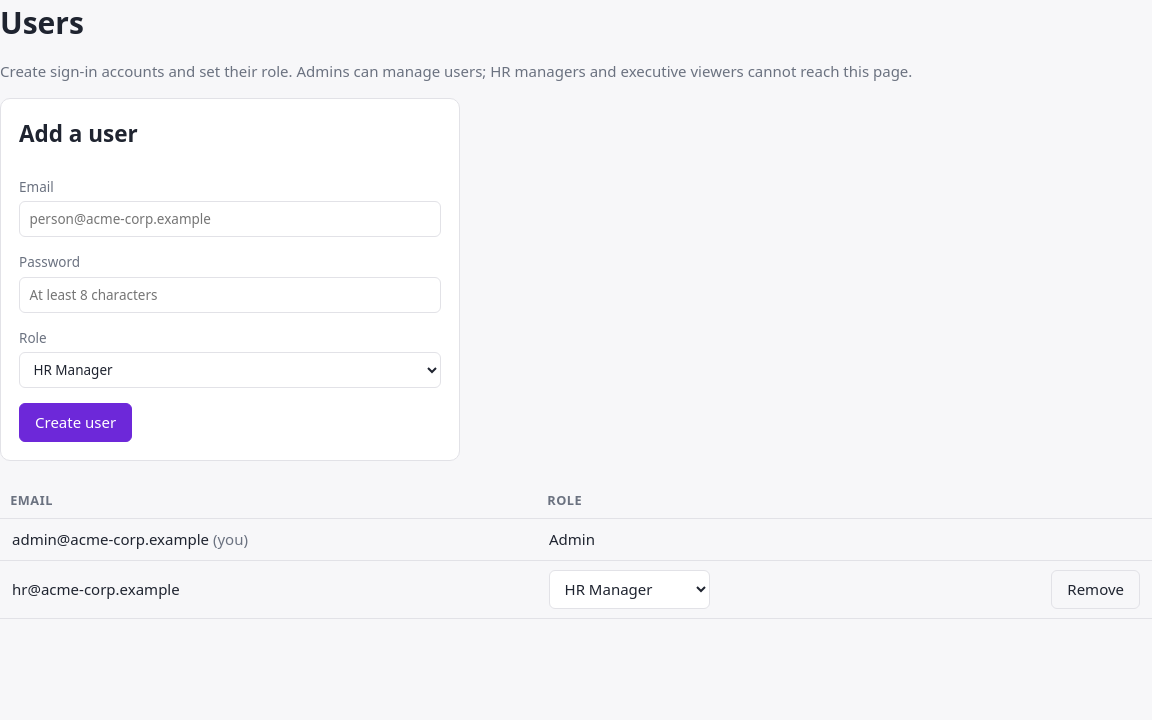
Scenario: UsersPage › shows a confirm dialog before removing a user, not a native confirm
Expected: the text "hr@acme-corp.example" is shown, [0, 560, 537, 619]
Click the button "Remove" at (1096, 589), box [1051, 570, 1140, 609]
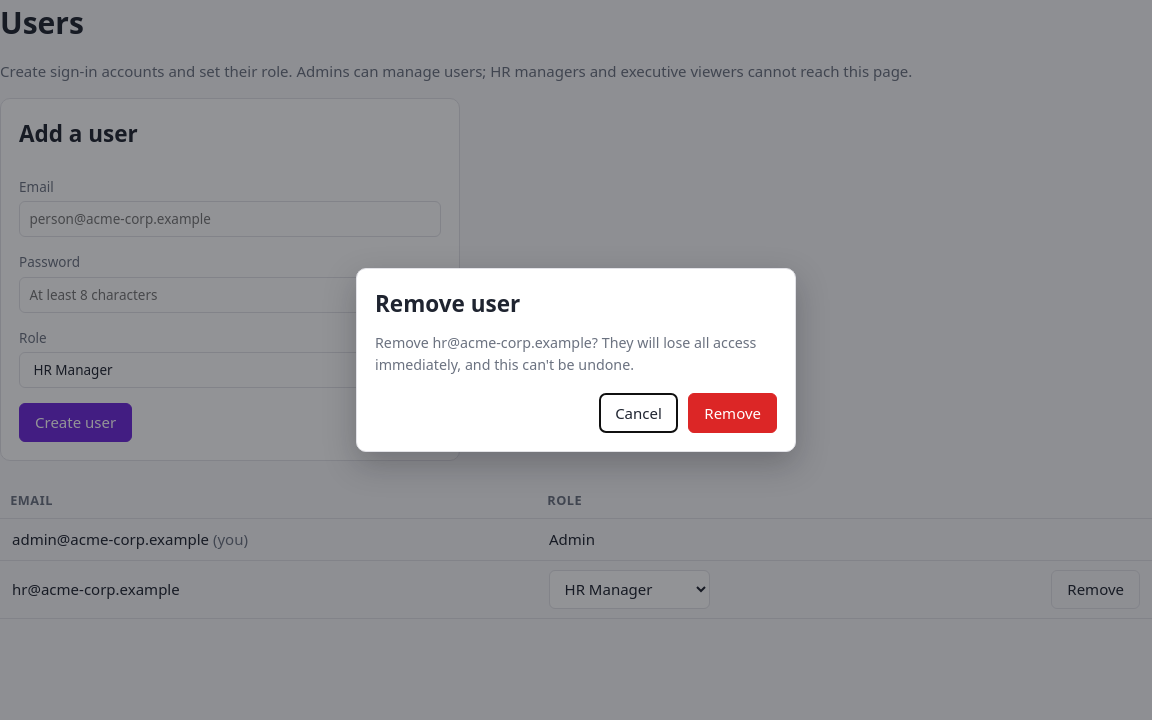
Result: the text "hr@acme-corp.example" is shown at [432, 333, 592, 352]
Click the button "Remove" at (733, 413), box [688, 393, 777, 433]
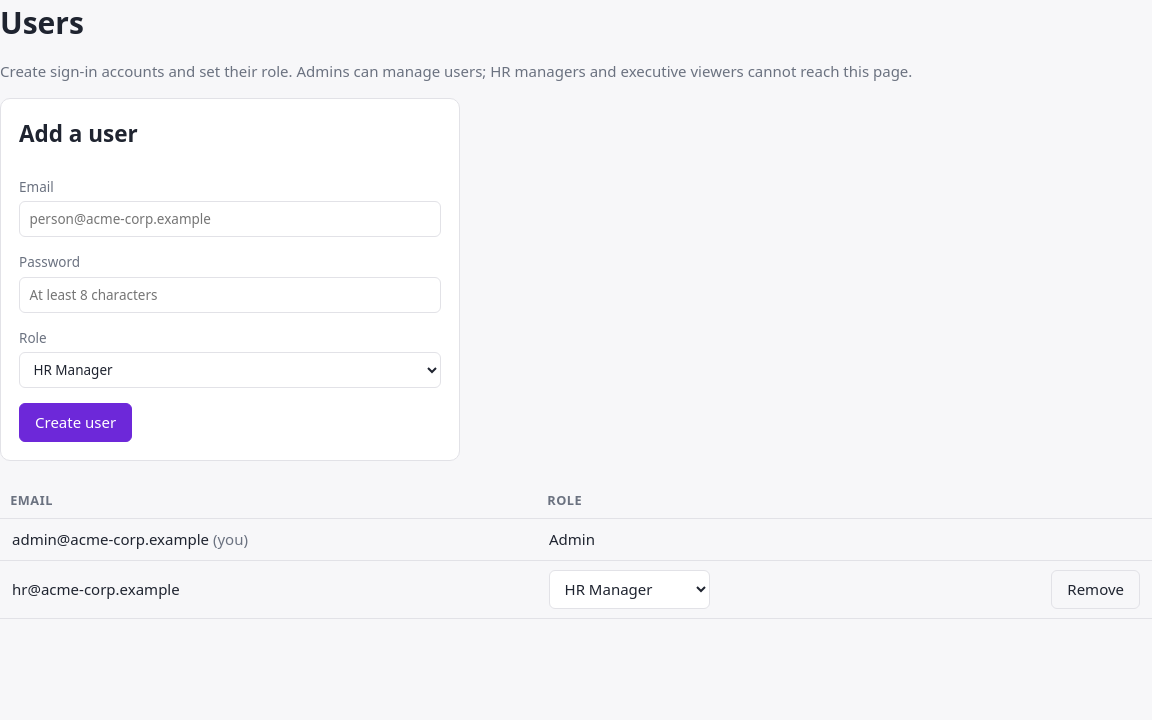
Result: the dialog is gone
